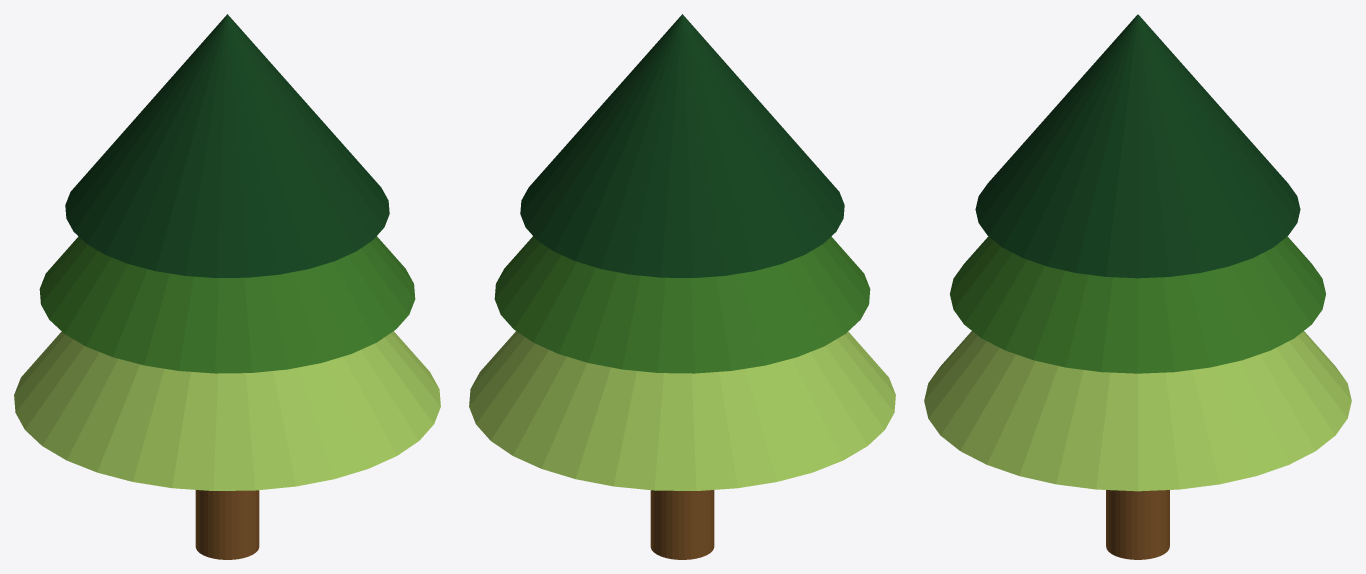
Rendered from arbol.fbx.
3 views of the same model, side by side, from view 1: azimuth 30°, elevation 25°; view 2: azimuth 150°, elevation 25°; view 3: azimuth 270°, elevation 25° (orthographic).
Parts seen in each view (by area): view 1: MiArbol; view 2: MiArbol; view 3: MiArbol.
Boxes of the visible parts, x1,y1,x2,y2 form: MiArbol: (14,14,440,559); MiArbol: (469,14,895,559); MiArbol: (924,14,1351,559).
Bounding box in the file's own units: 561 × 770 × 561.
1 material, 1 textured.
